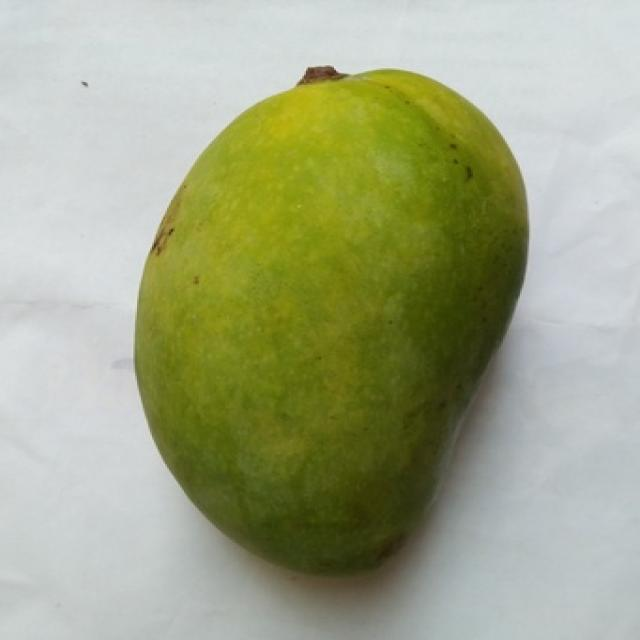Mango: (135, 70, 527, 572)
